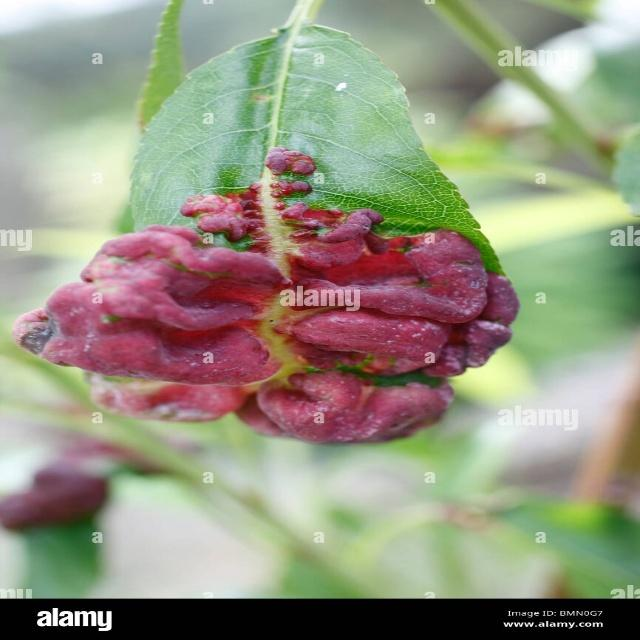leaf_curl: (4, 20, 537, 466)
